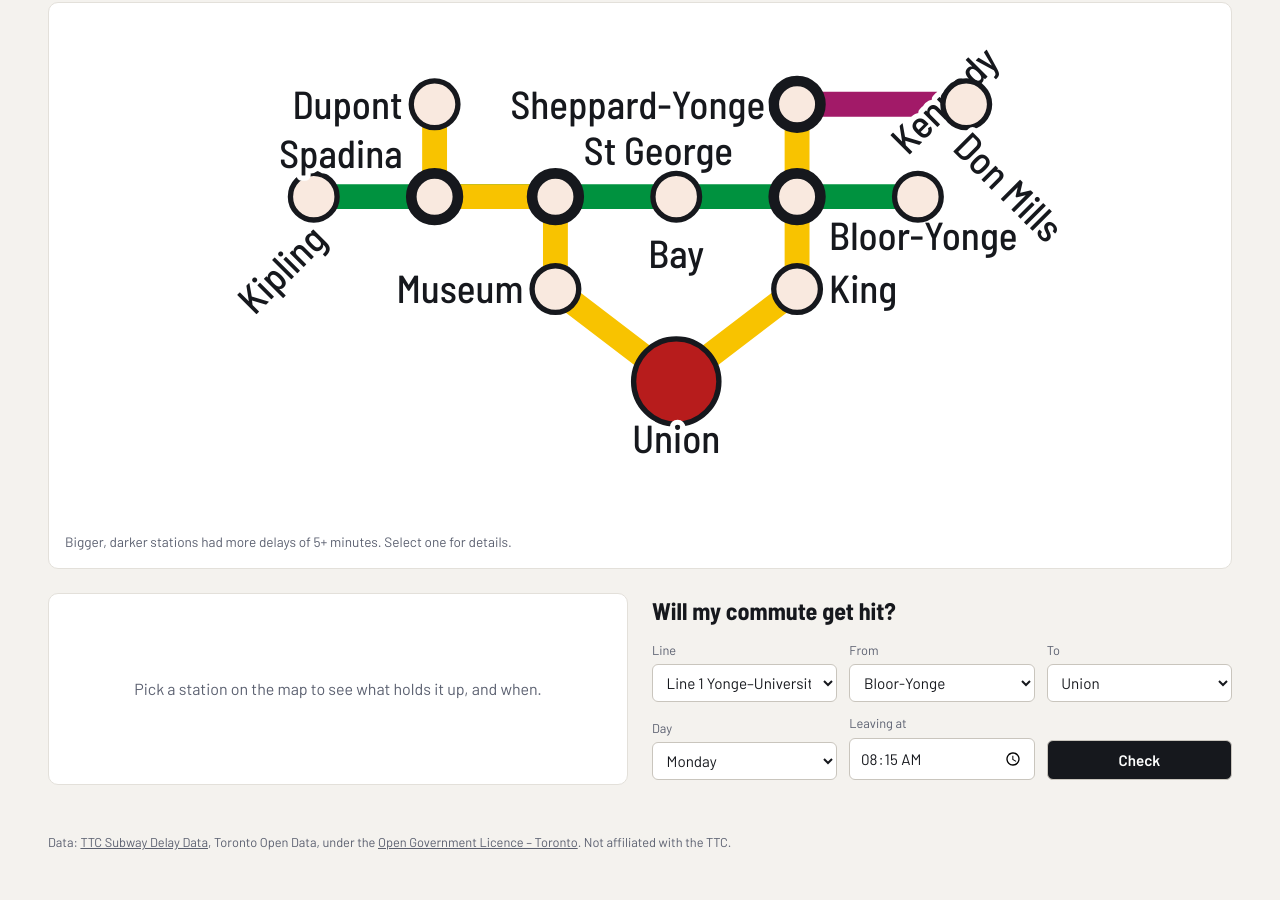
Test case: App › explains a commute's risk and highlights its stations
The image size is (1280, 900).
(page scrolled)
Select "Friday" in the dropdown labelled "Day" at [745, 762], box [652, 742, 837, 780]
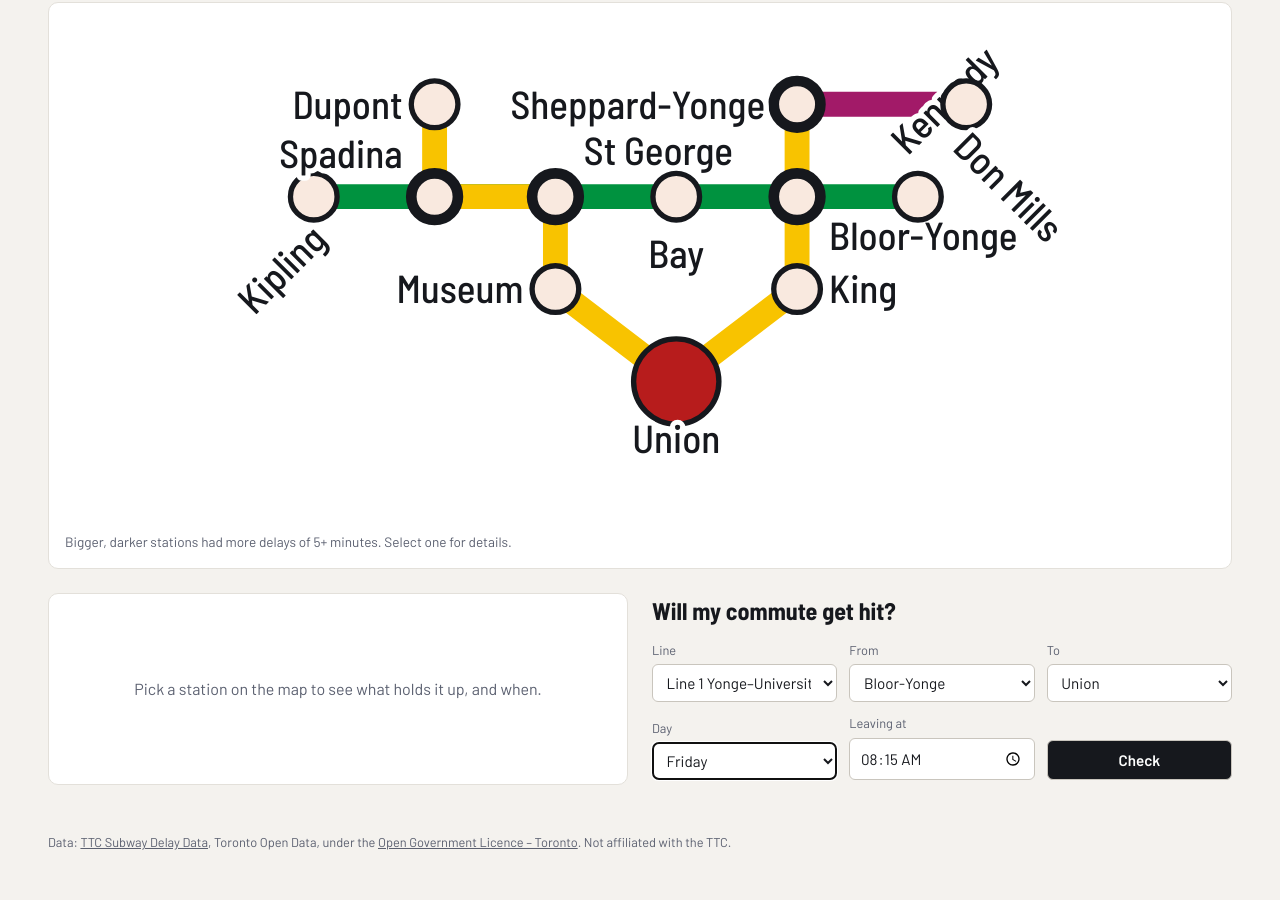
Click the button "Check".
click(1139, 760)  # box [1047, 740, 1232, 780]
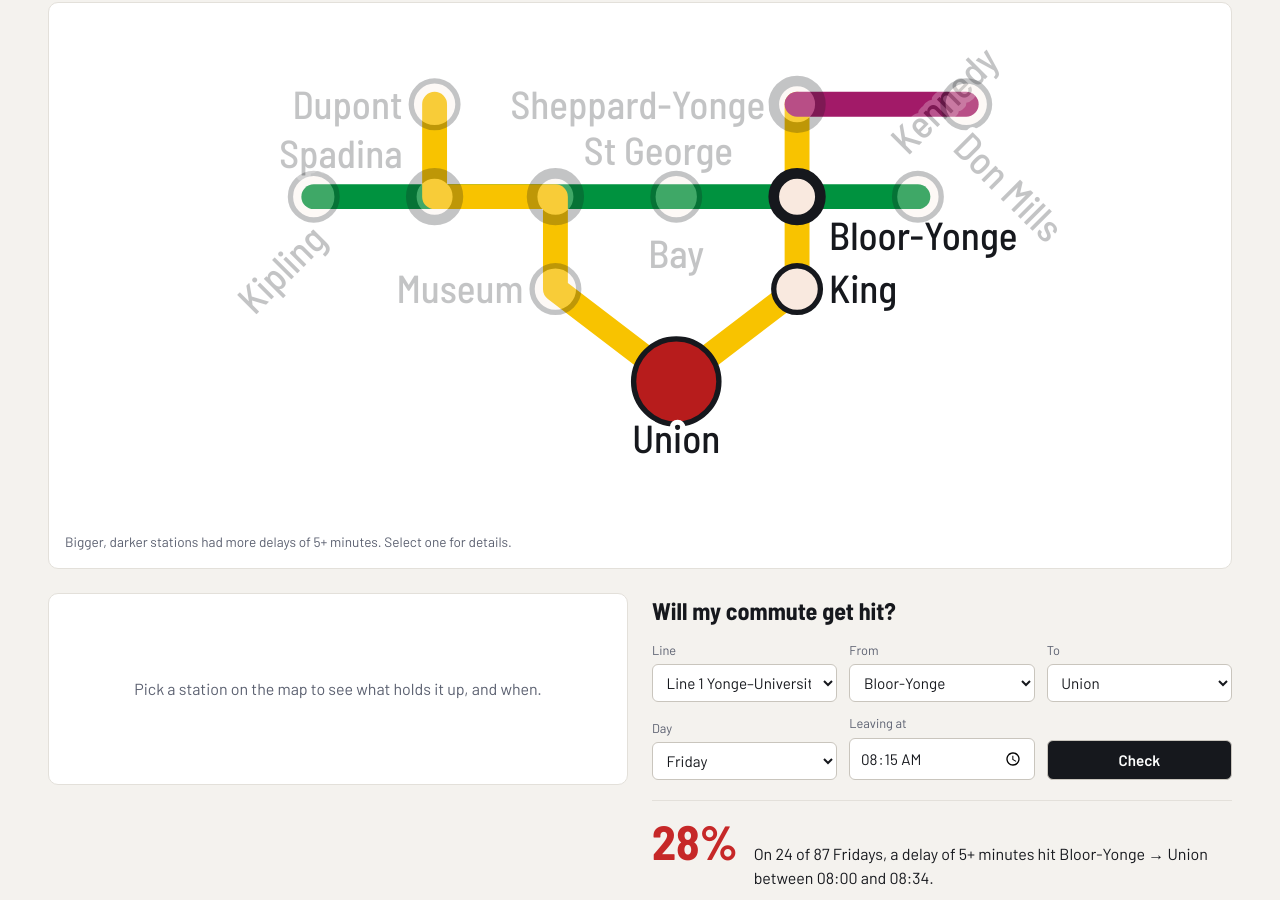
Check: the text "28%" is shown, box [652, 818, 738, 866]
Check: the text "between 08:00 and 08:34" is shown, box [754, 842, 1232, 890]
